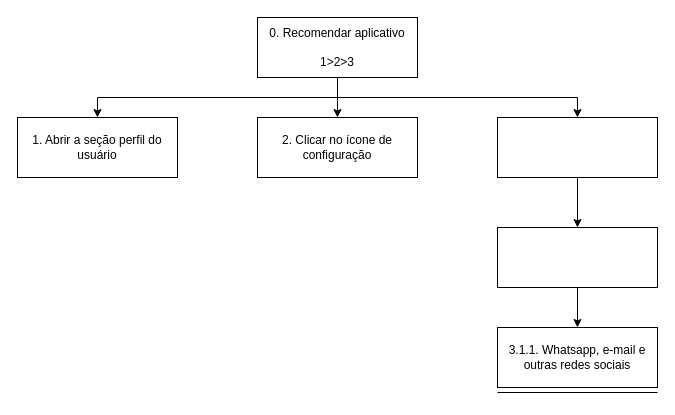
This 675x415 diagram has some shape labels left out. The box of each missing label's shape, as (x1, y1, x2, y2) in pixels:
3. Clicar no campo de 'Recomendar para amigos': (496, 116, 658, 178)
3.1. Escoher o destino final: (496, 226, 658, 288)
